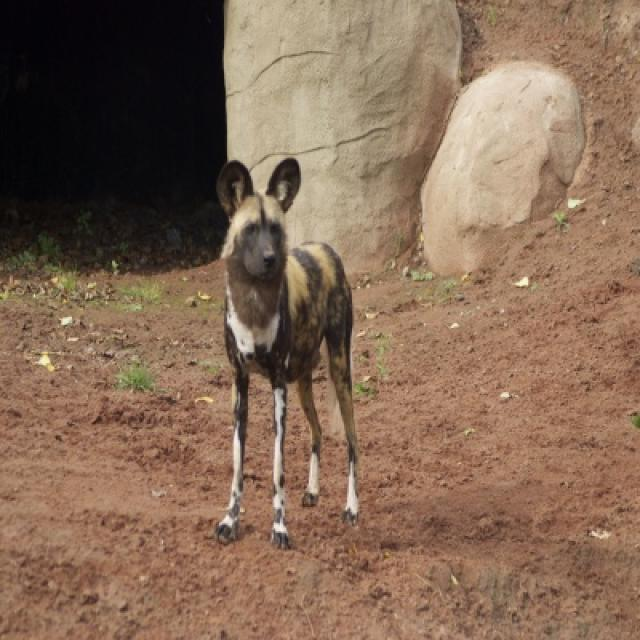hyena: (214, 160, 360, 550)
